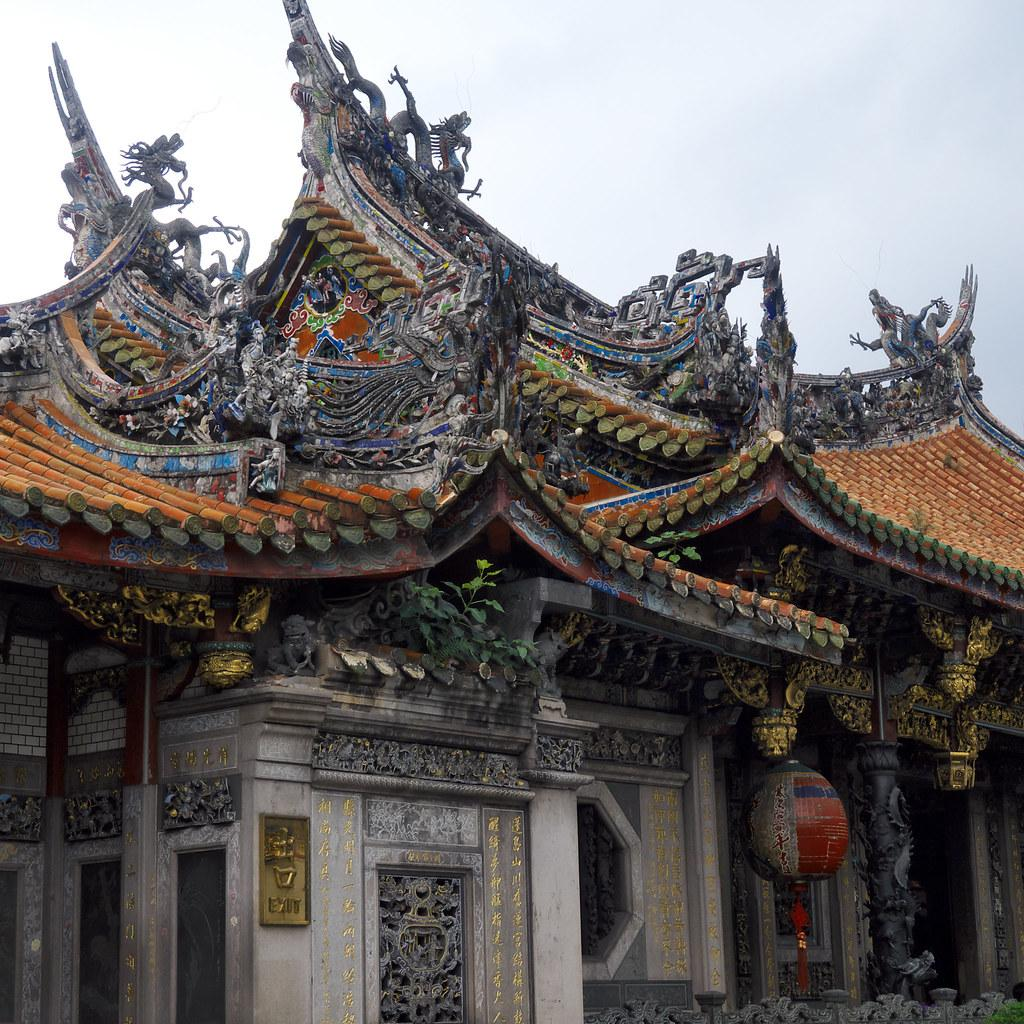temple: (1, 2, 1023, 1022)
